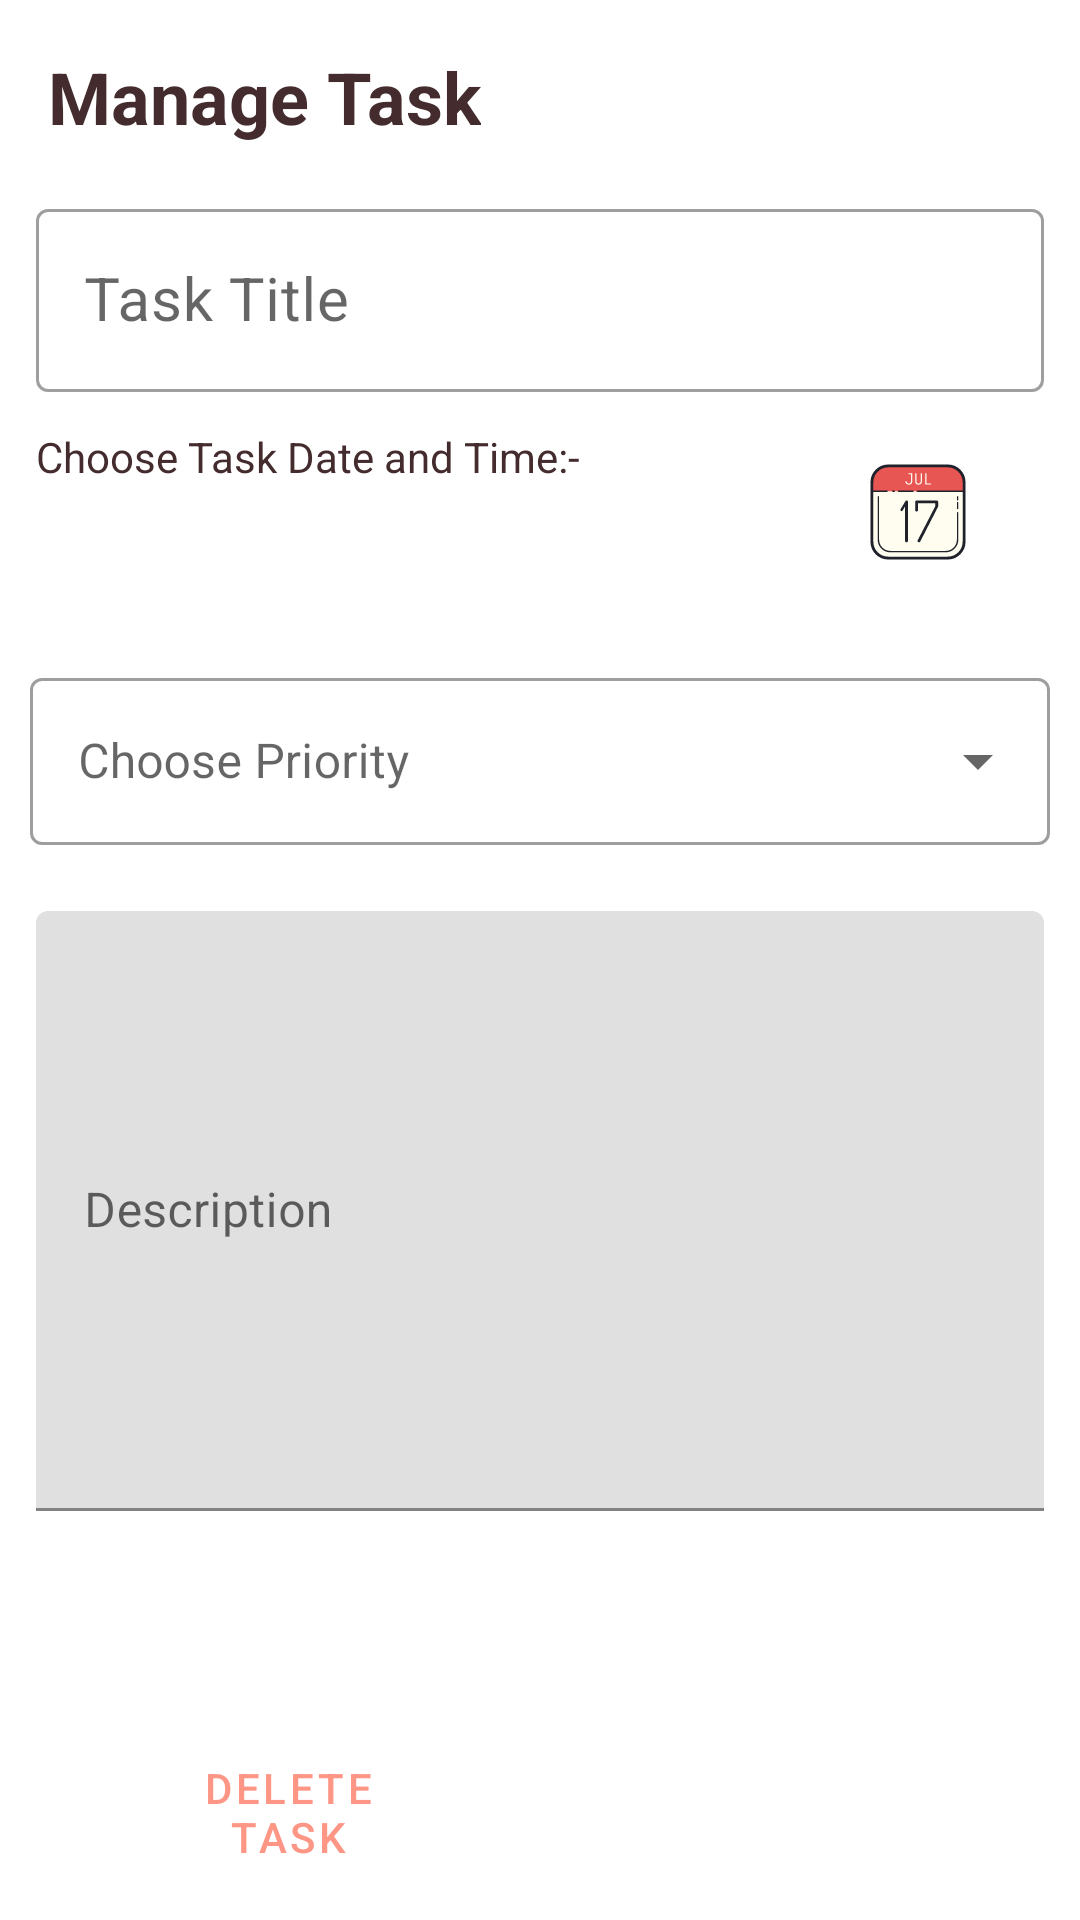

Locate icon controls on the screen. Image size 1080 × 1920, boxes as BBox(x1, y1, x2, y2).
Date and Time Select: BBox(870, 464, 966, 560)
